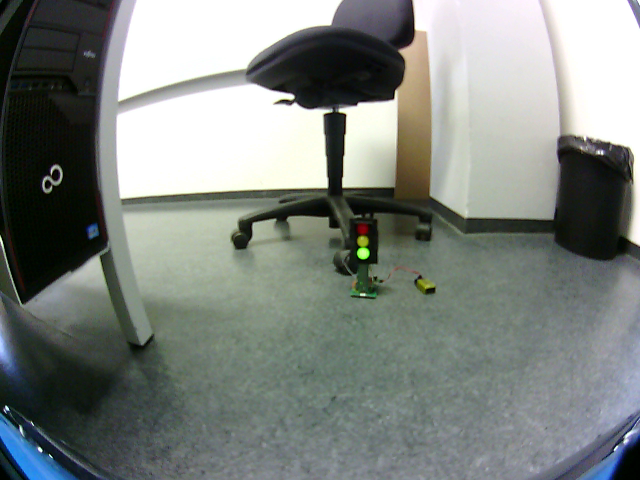green trafficlight: (352, 220, 375, 261)
